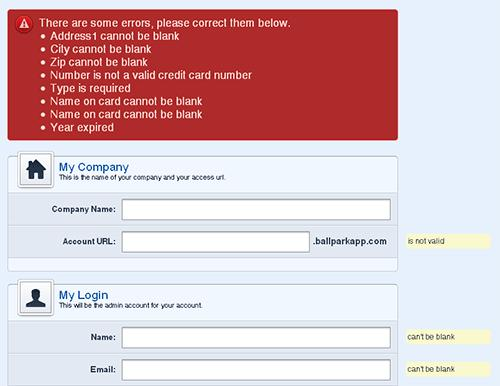error_message: (40, 16, 290, 134)
